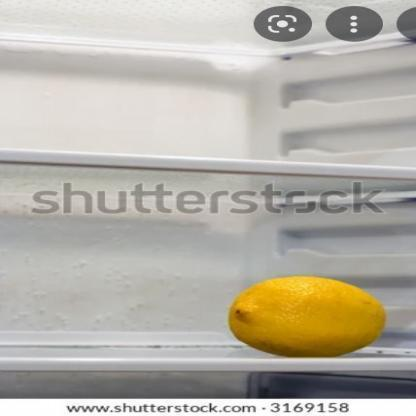lemon: (228, 276, 386, 358)
